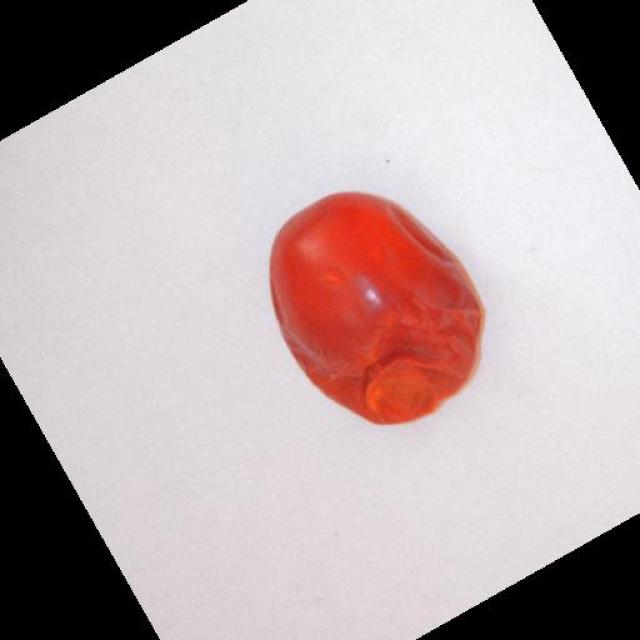Stale_tomato: (253, 175, 520, 418)
